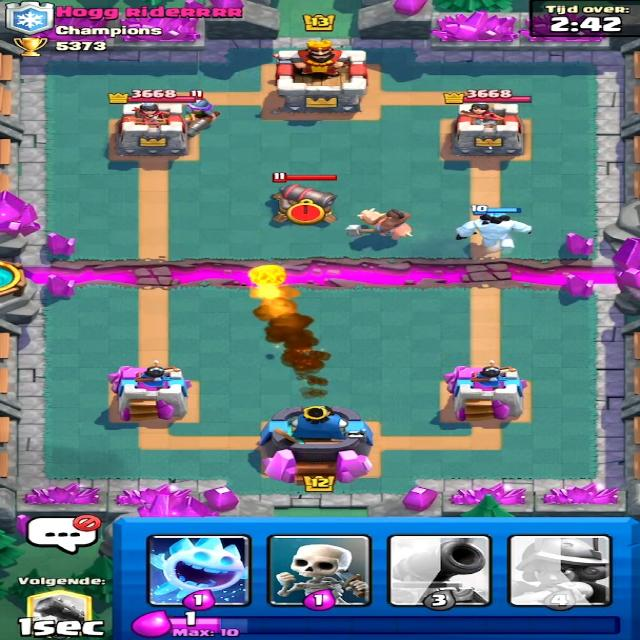Cannon_Card: (390, 537, 488, 607)
Enemy_Musketeer_Troop: (180, 97, 222, 139)
Fireball_Troop: (240, 262, 302, 304)
Hog_Rider_Troop: (348, 200, 417, 247)
Ice_Golem_Troop: (453, 216, 543, 250)
Ice_Spirit_Card: (157, 535, 253, 604)
Musketeer_Card: (510, 534, 608, 605)
Skeleton_Card: (268, 534, 375, 608)
